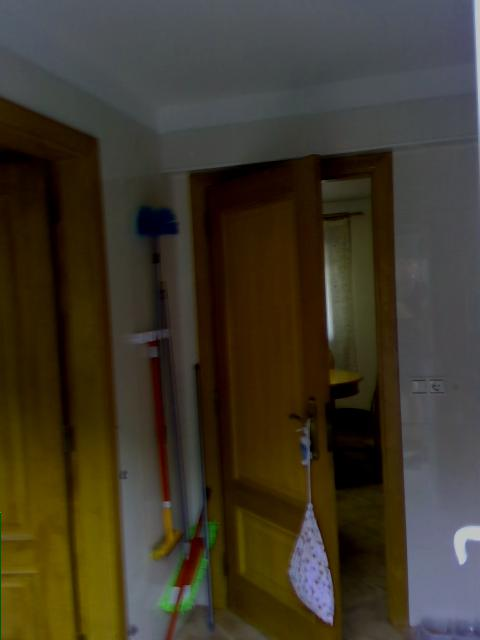semi_door: (184, 144, 411, 639)
